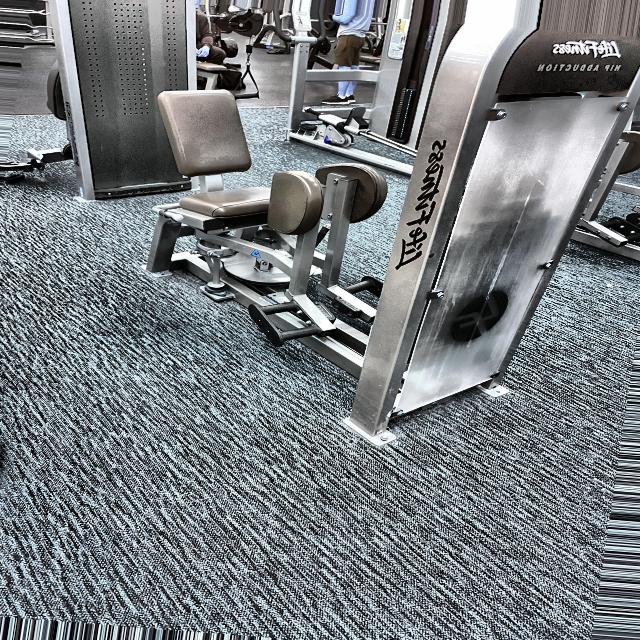hip_adduction_machine: (132, 46, 396, 378), (506, 58, 637, 83)
